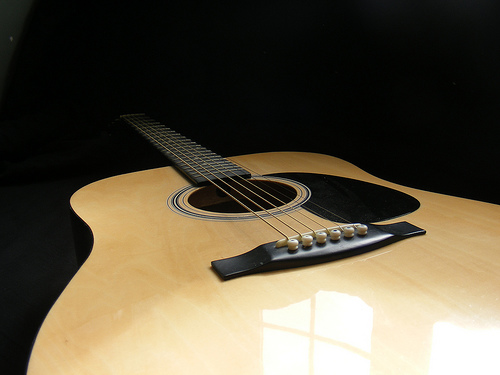guitar: (26, 111, 500, 375)
